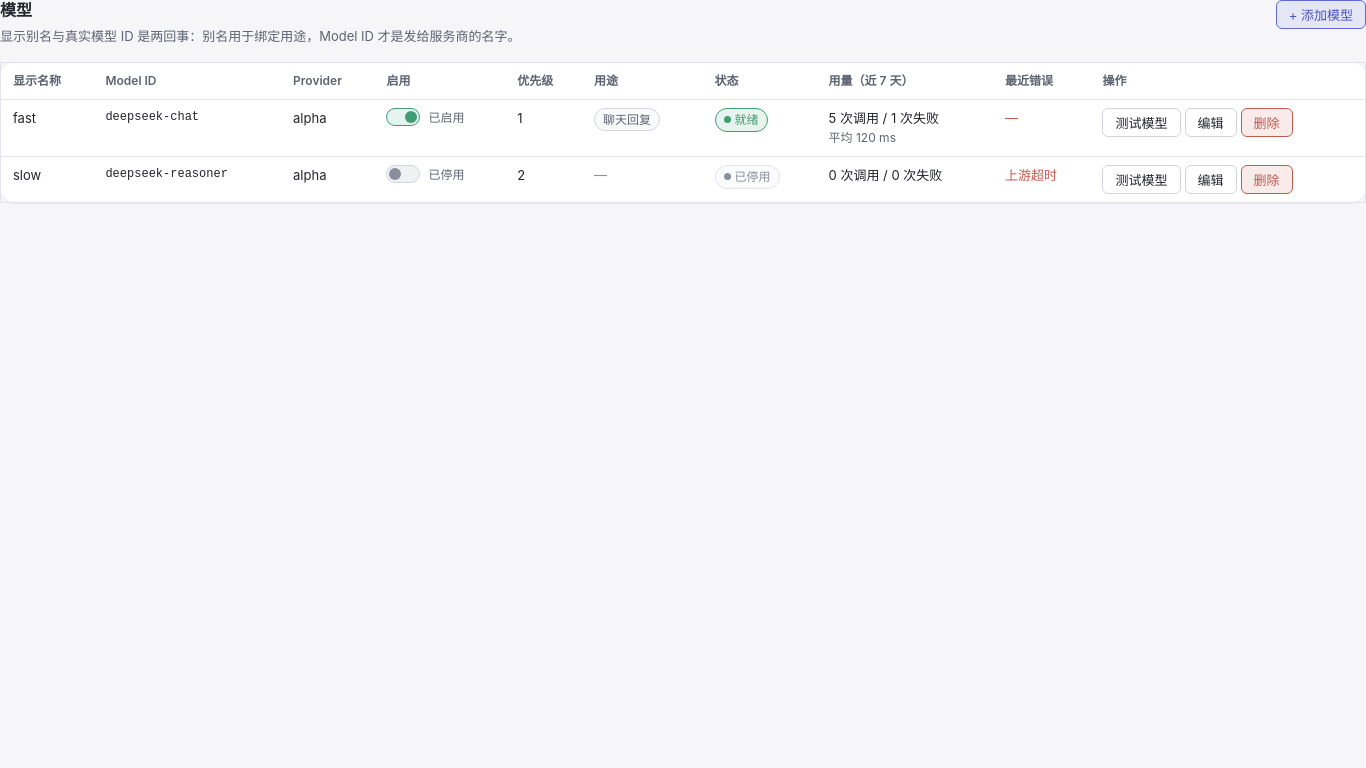
Test: AiModels › tests a model through the test dialog with the default prompt
The width and height of the screenshot is (1366, 768).
Click the button with test id "test-model" in the row of "fast": (1142, 122) [1102, 108, 1180, 137]
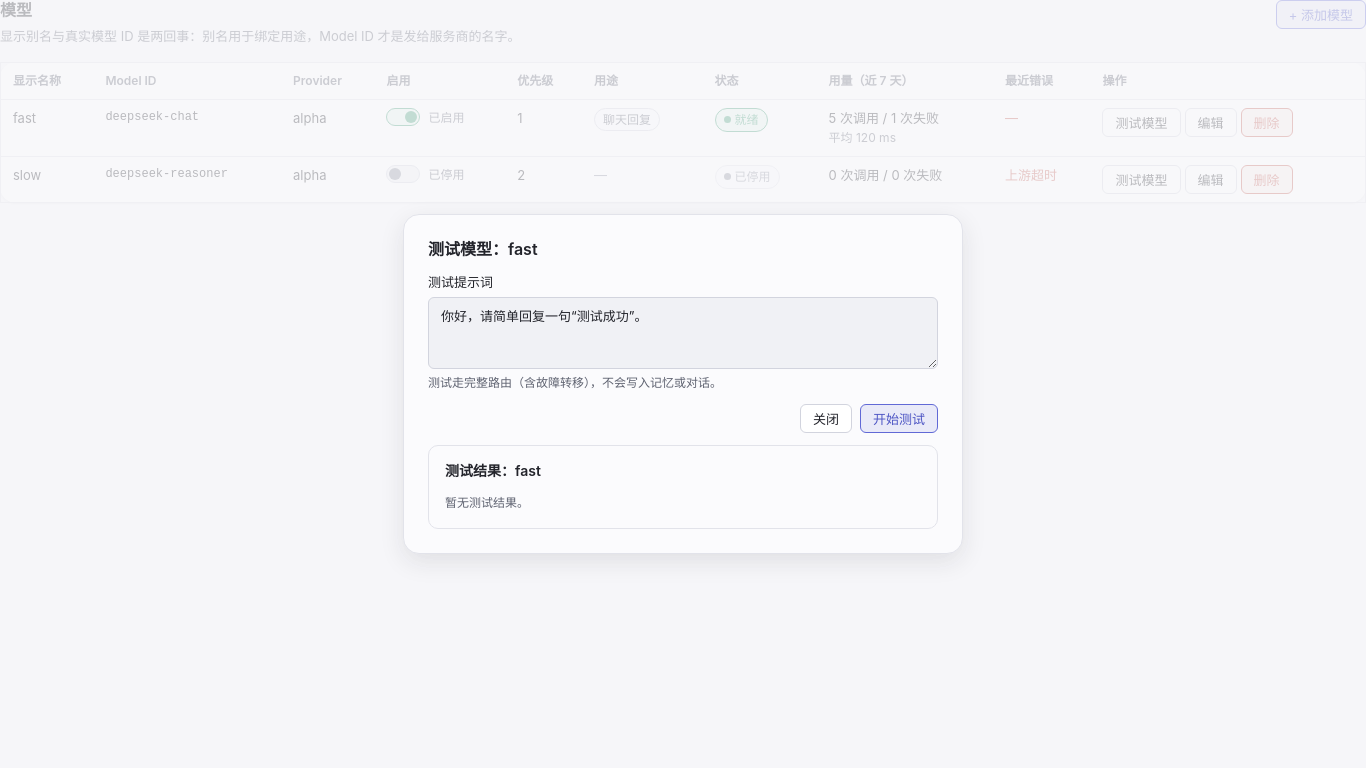
Check: the text box with test id "test-prompt" holds "你好，请简单回复一句“测试成功”。", box [428, 297, 938, 369]
Click the button with test id "test-run": (899, 419) [860, 404, 938, 433]
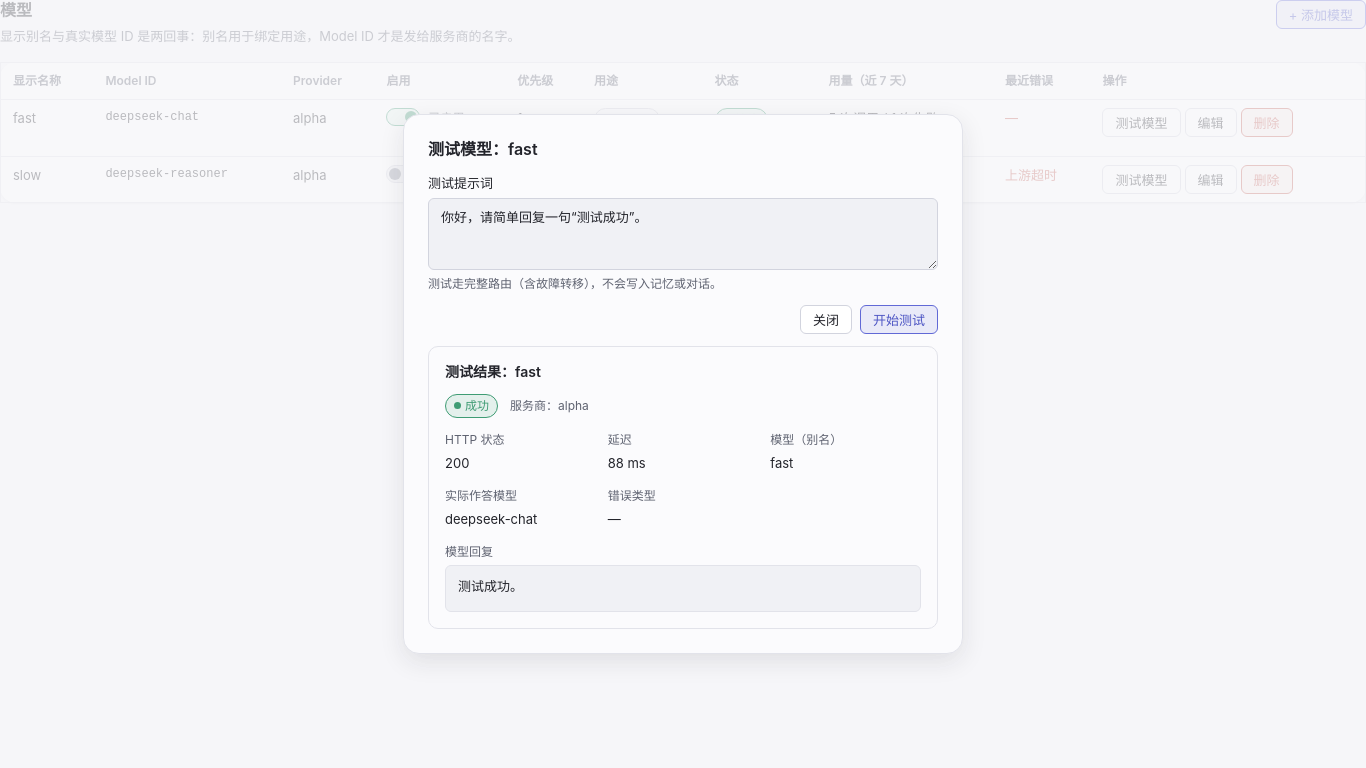
Check: the element with test id "test-result-panel" shows "成功", box [465, 398, 489, 413]
Check: the text with test id "test-reply" reads "测试成功。", box [458, 580, 523, 595]
